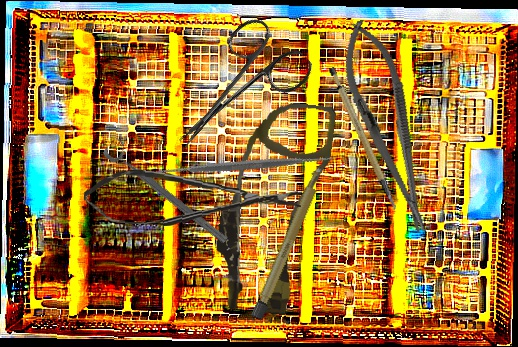Cannula: (209, 95, 337, 319)
Fixation Ring: (101, 135, 236, 247)
Iris Scissors: (152, 8, 318, 176)
Micro Scissor: (82, 167, 303, 233)
Needle Holder: (330, 13, 446, 241)
Scalpel Handle: (250, 162, 328, 323), (326, 60, 398, 218)
Spatula Surgical: (149, 69, 341, 261)
